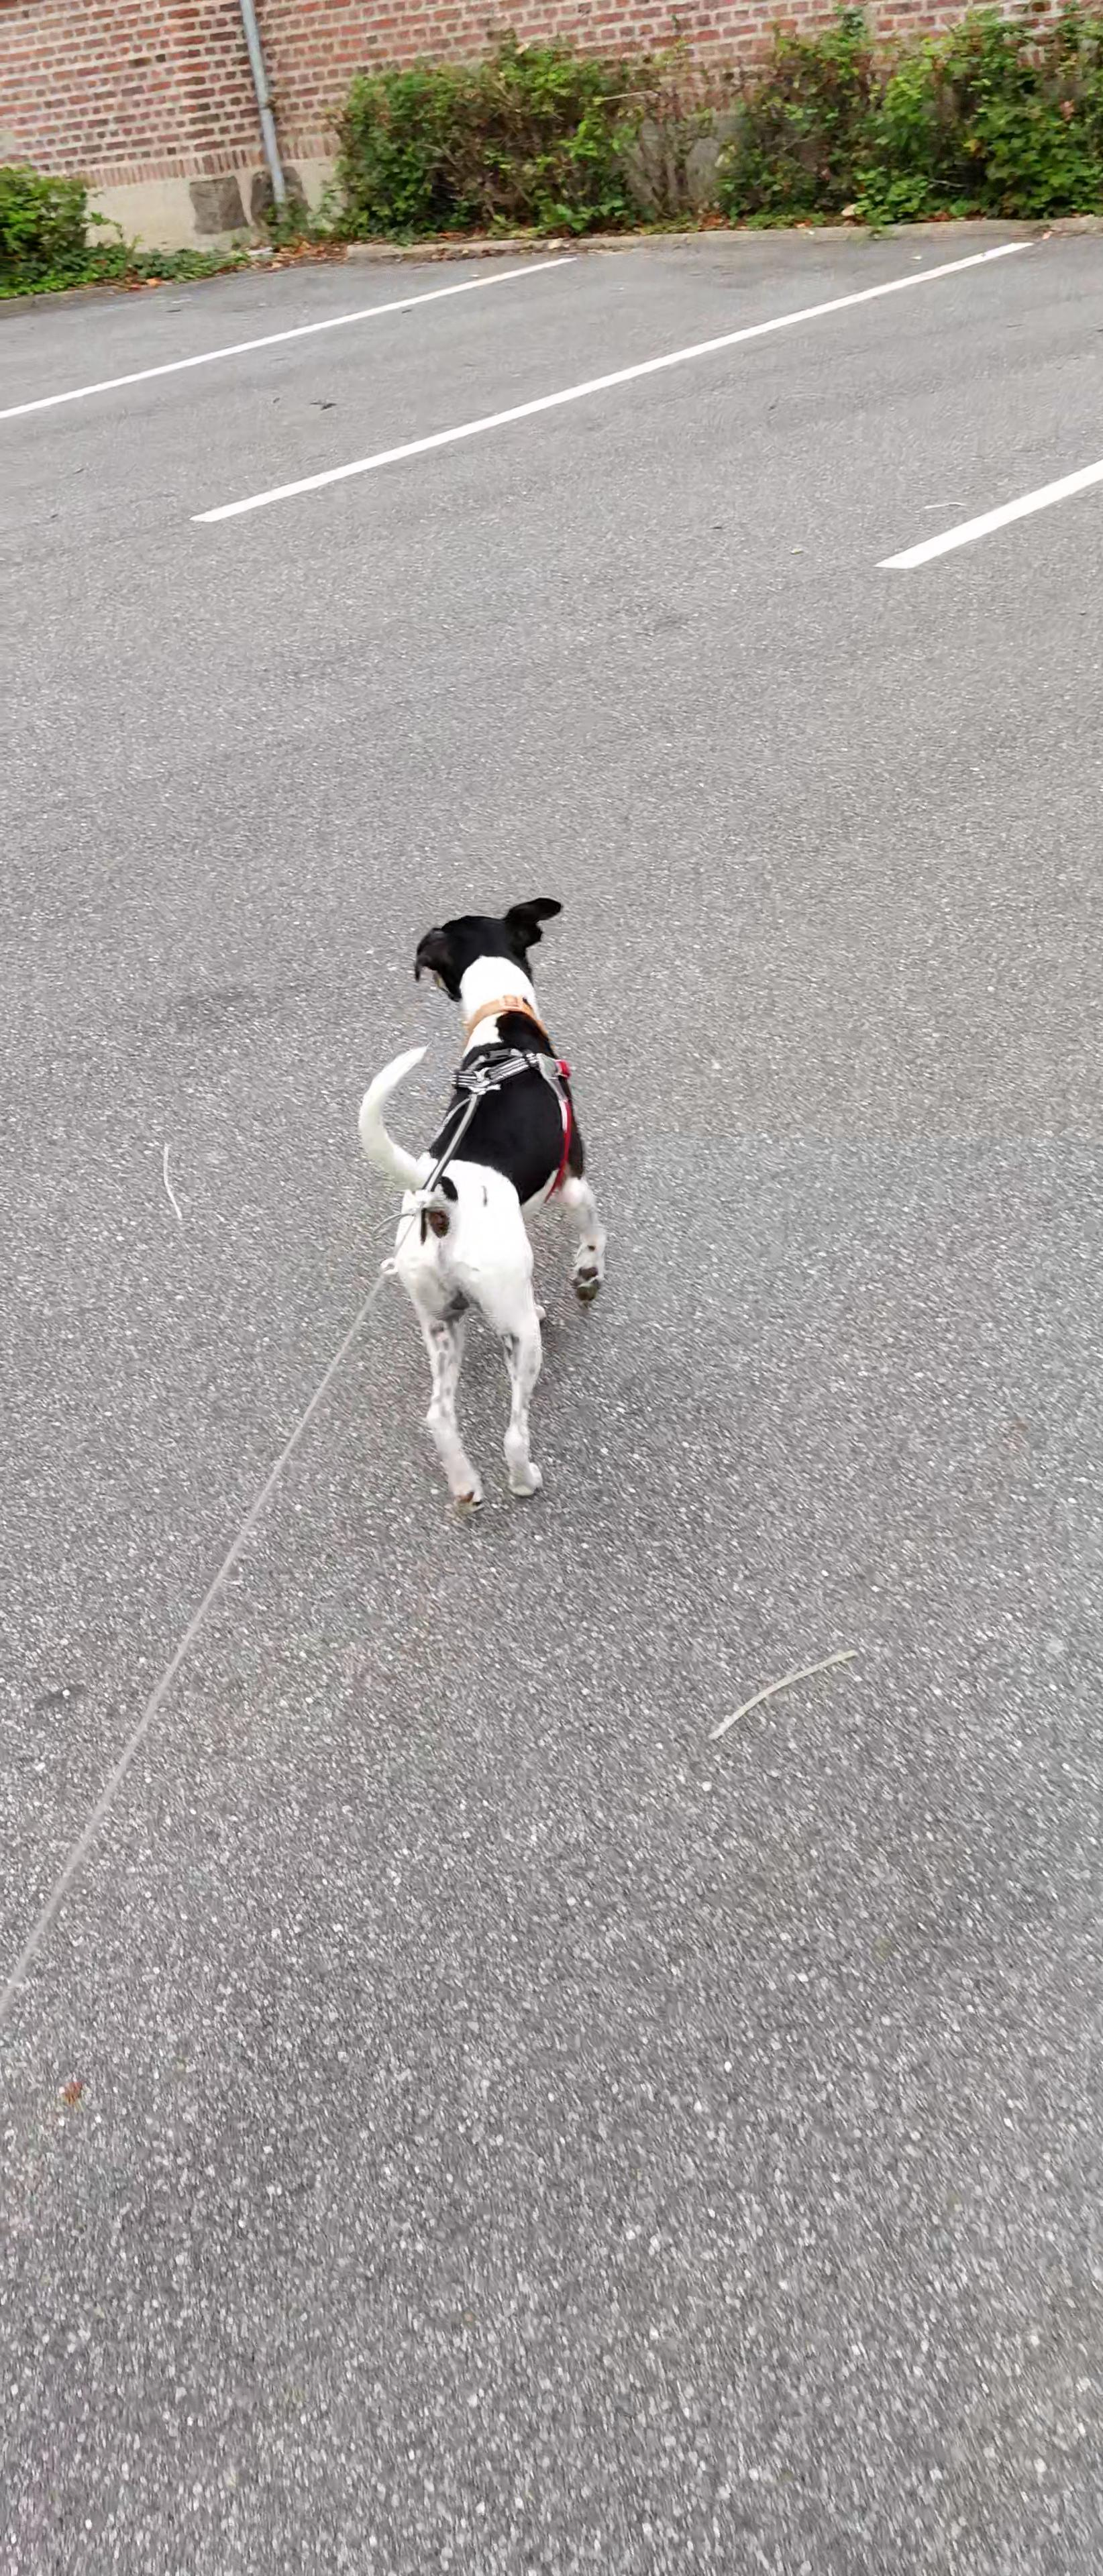Dog: (322, 874, 682, 1549)
